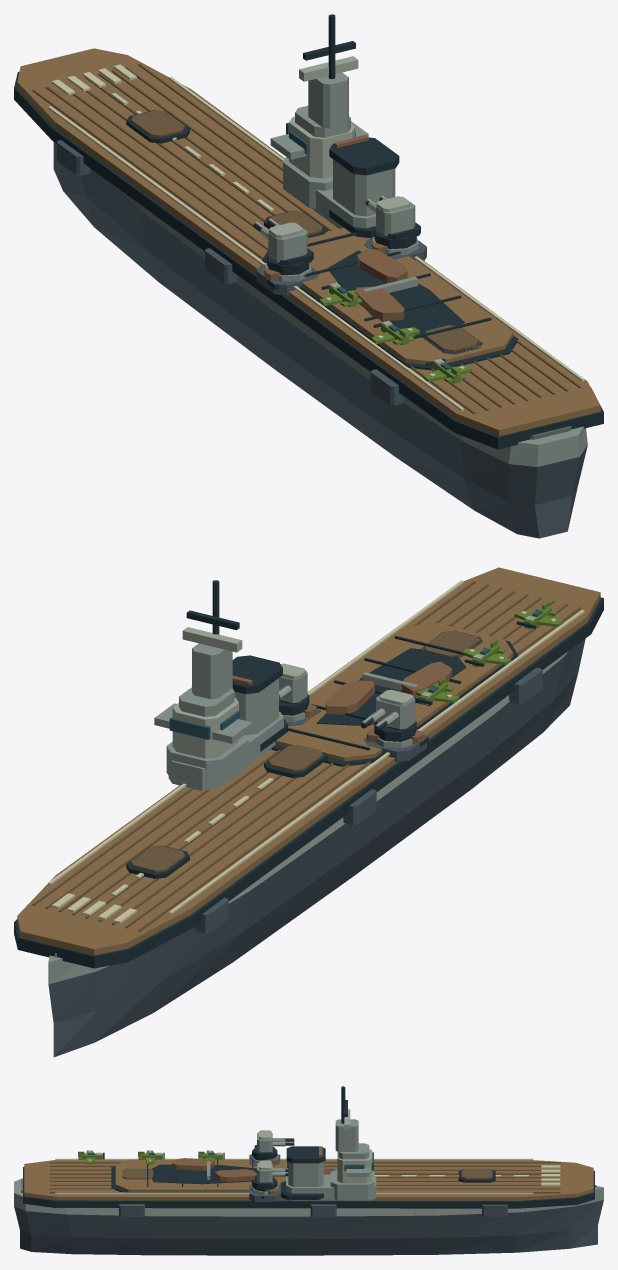
Rendered from historic-ark-royal.glb.
3 views of the same model, one above another, from view 1: azimuth 30°, elevation 25°; view 2: azimuth 150°, elevation 25°; view 3: azimuth 270°, elevation 25° (orthographic). The views are drawn at different scales.
Visible parts, largest first — view 1: historic-ark-royal-historic-ark-royal-geometry, historic-ark-royal-part_flight-deck.004-geometry, historic-ark-royal-part_bridge.017-geometry, historic-ark-royal-ruin_flight-deck.003-geometry, historic-ark-royal-historic_funnel_0.018-geometry, historic-ark-royal-turret_aa_aa-port.019-geometry, historic-ark-royal-turret_aa_aa-starboard.017-geometry, historic-ark-royal-aircraft_lift_0.004-geometry, historic-ark-royal-aircraft_lift_2.004-geometry, historic-ark-royal-part_aa-port.019-geometry, historic-ark-royal-aircraft_lift_1.004-geometry, historic-ark-royal-parked_aircraft_1.004-geometry (+1 smaller); view 2: historic-ark-royal-historic-ark-royal-geometry, historic-ark-royal-part_bridge.017-geometry, historic-ark-royal-part_flight-deck.004-geometry, historic-ark-royal-historic_funnel_0.018-geometry, historic-ark-royal-ruin_flight-deck.003-geometry, historic-ark-royal-turret_aa_aa-port.019-geometry, historic-ark-royal-aircraft_lift_0.004-geometry, historic-ark-royal-aircraft_lift_1.004-geometry, historic-ark-royal-turret_aa_aa-starboard.017-geometry, historic-ark-royal-aircraft_lift_2.004-geometry, historic-ark-royal-part_aa-port.019-geometry, historic-ark-royal-parked_aircraft_0.004-geometry (+2 smaller); view 3: historic-ark-royal-historic-ark-royal-geometry, historic-ark-royal-part_bridge.017-geometry, historic-ark-royal-part_flight-deck.004-geometry, historic-ark-royal-historic_funnel_0.018-geometry, historic-ark-royal-ruin_flight-deck.003-geometry, historic-ark-royal-turret_aa_aa-port.019-geometry, historic-ark-royal-turret_aa_aa-starboard.017-geometry, historic-ark-royal-aircraft_lift_0.004-geometry, historic-ark-royal-part_aa-starboard.017-geometry, historic-ark-royal-aircraft_lift_2.004-geometry, historic-ark-royal-parked_aircraft_1.004-geometry, historic-ark-royal-parked_aircraft_0.004-geometry.
Part boxes in pixels (x1,y1,x2,y2): historic-ark-royal-historic-ark-royal-geometry: (14,48,603,538); historic-ark-royal-part_flight-deck.004-geometry: (262,227,518,370); historic-ark-royal-part_bridge.017-geometry: (270,14,368,208); historic-ark-royal-ruin_flight-deck.003-geometry: (327,248,464,335); historic-ark-royal-historic_funnel_0.018-geometry: (312,135,399,238); historic-ark-royal-turret_aa_aa-port.019-geometry: (253,218,313,275); historic-ark-royal-turret_aa_aa-starboard.017-geometry: (365,195,420,249); historic-ark-royal-aircraft_lift_0.004-geometry: (126,110,189,143); historic-ark-royal-aircraft_lift_2.004-geometry: (422,325,482,354); historic-ark-royal-part_aa-port.019-geometry: (256,263,318,295); historic-ark-royal-aircraft_lift_1.004-geometry: (264,211,327,237); historic-ark-royal-parked_aircraft_1.004-geometry: (371,320,419,345); historic-ark-royal-historic-ark-royal-geometry: (14,567,603,1057); historic-ark-royal-part_bridge.017-geometry: (154,580,252,787); historic-ark-royal-part_flight-deck.004-geometry: (271,623,518,766); historic-ark-royal-historic_funnel_0.018-geometry: (168,655,287,790); historic-ark-royal-ruin_flight-deck.003-geometry: (316,648,466,725); historic-ark-royal-turret_aa_aa-port.019-geometry: (360,689,416,741); historic-ark-royal-aircraft_lift_0.004-geometry: (126,845,189,878); historic-ark-royal-aircraft_lift_1.004-geometry: (264,745,327,777); historic-ark-royal-turret_aa_aa-starboard.017-geometry: (279,663,309,715); historic-ark-royal-aircraft_lift_2.004-geometry: (420,630,482,658); historic-ark-royal-part_aa-port.019-geometry: (364,729,426,761); historic-ark-royal-parked_aircraft_0.004-geometry: (514,601,563,629); historic-ark-royal-historic-ark-royal-geometry: (14,1158,603,1255); historic-ark-royal-part_bridge.017-geometry: (330,1086,374,1200); historic-ark-royal-part_flight-deck.004-geometry: (111,1159,288,1192); historic-ark-royal-historic_funnel_0.018-geometry: (280,1146,376,1200); historic-ark-royal-ruin_flight-deck.003-geometry: (151,1158,256,1184); historic-ark-royal-turret_aa_aa-port.019-geometry: (252,1130,294,1160); historic-ark-royal-turret_aa_aa-starboard.017-geometry: (252,1160,288,1191); historic-ark-royal-aircraft_lift_0.004-geometry: (458,1168,495,1182); historic-ark-royal-part_aa-starboard.017-geometry: (249,1184,280,1201); historic-ark-royal-aircraft_lift_2.004-geometry: (122,1168,153,1179); historic-ark-royal-parked_aircraft_1.004-geometry: (138,1150,164,1164); historic-ark-royal-parked_aircraft_0.004-geometry: (78,1150,104,1164).
Size of the model in its own units: 1.17 by 1.92 by 5.89.
